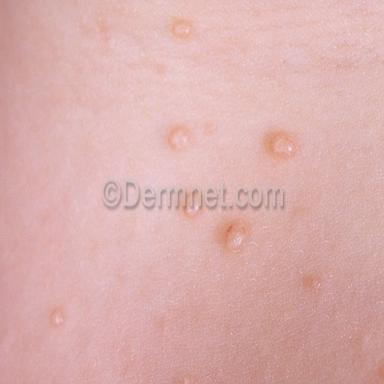Molluscum-Contagiosum: (264, 128, 298, 161), (225, 222, 247, 251), (168, 125, 191, 152), (173, 19, 192, 38), (50, 308, 65, 326)
